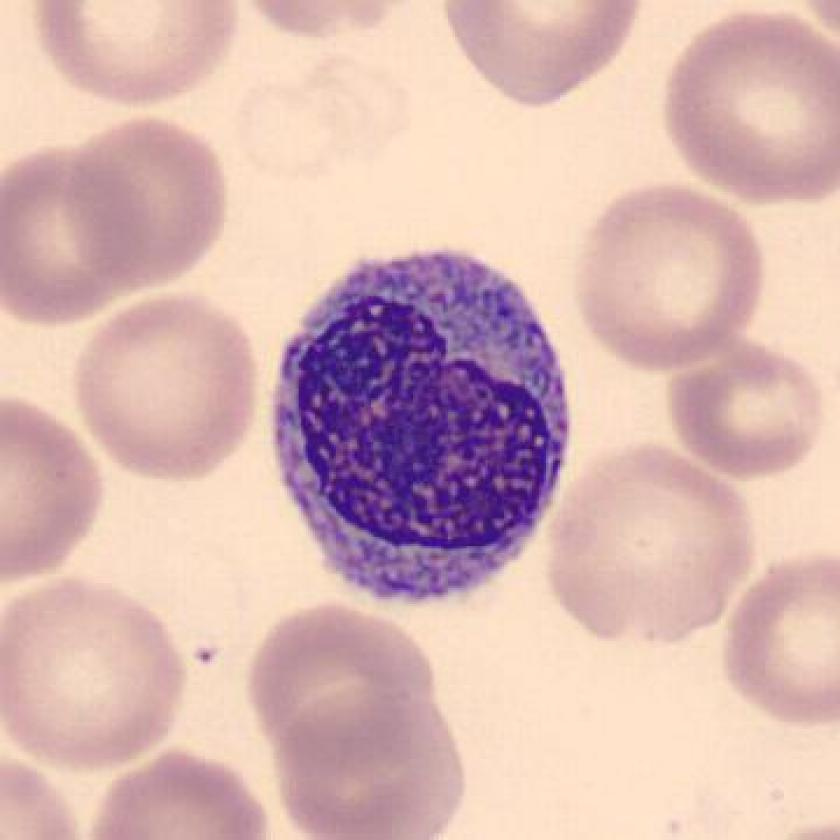monocyte: (248, 228, 596, 628)
